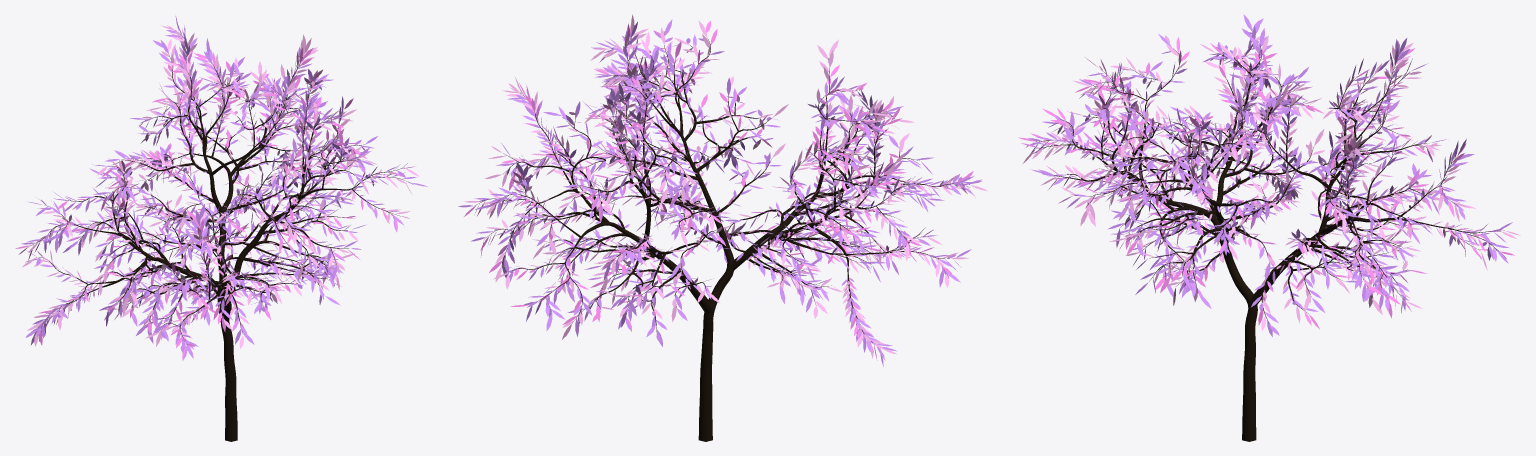
The model's file is Tree.fbx.
3 renders of one model, left to right at view 1: azimuth 30°, elevation 25°; view 2: azimuth 150°, elevation 25°; view 3: azimuth 270°, elevation 25°, orthographic. The views are drawn at different scales.
Parts seen in each view (by area): view 1: leaves, tree; view 2: leaves, tree; view 3: leaves, tree.
Part boxes in pixels (<box>): leaves: <box>15,16,427,360</box>; tree: <box>31,34,409,441</box>; leaves: <box>458,14,987,366</box>; tree: <box>475,33,969,441</box>; leaves: <box>1018,14,1520,336</box>; tree: <box>1036,29,1504,441</box>.
Size of the model in its own units: 937 by 852 by 951.
